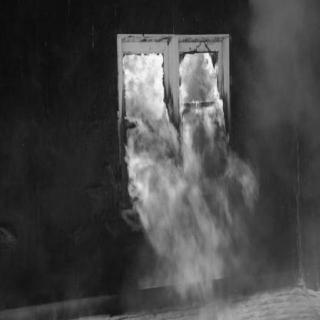Fire: (112, 43, 264, 309)
